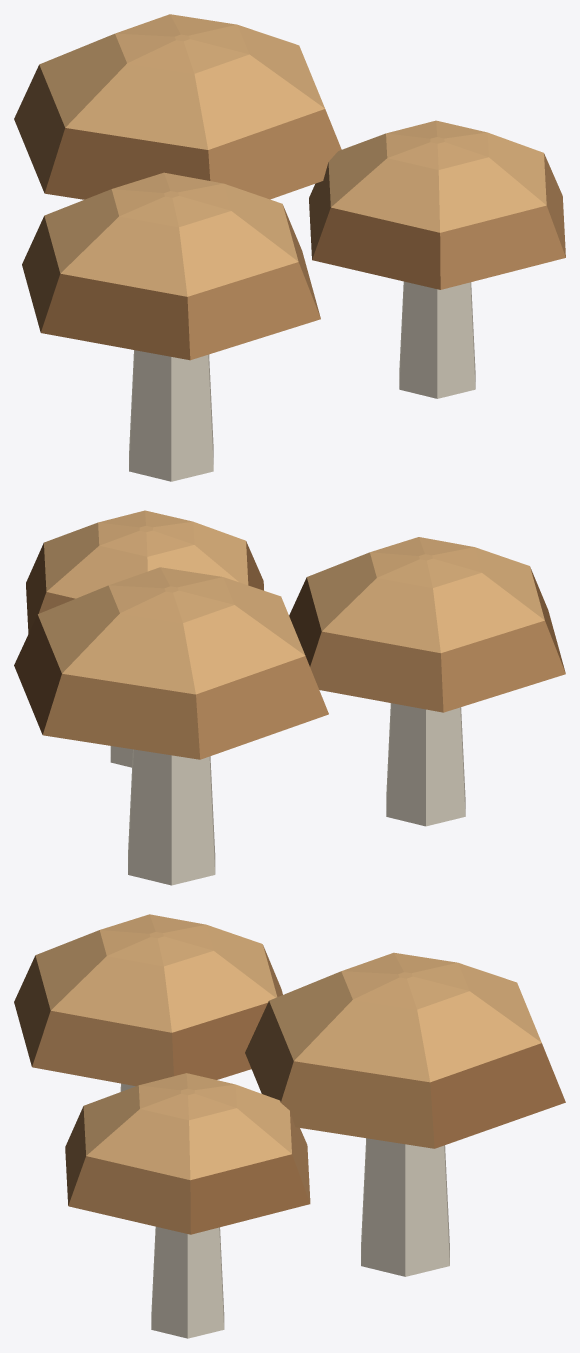
Rendered from mushroom-crop.glb.
3 views of the same model, one above another, from view 1: azimuth 30°, elevation 25°; view 2: azimuth 150°, elevation 25°; view 3: azimuth 270°, elevation 25° (orthographic). The views are drawn at different scales.
Parts seen in each view (by area): view 1: mushroom-crop; view 2: mushroom-crop; view 3: mushroom-crop.
Part boxes in pixels (bbox=[...]): mushroom-crop: bbox=[14, 14, 565, 481]; mushroom-crop: bbox=[14, 510, 565, 885]; mushroom-crop: bbox=[14, 914, 565, 1338].
Bounding box in the file's own units: 0.3893 × 0.1987 × 0.3551.
1 material, 1 textured.
